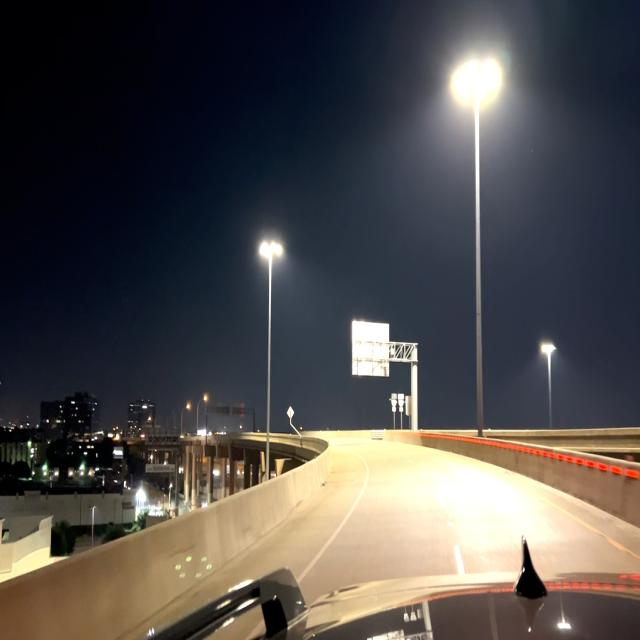back-of-sign: (352, 319, 390, 379)
